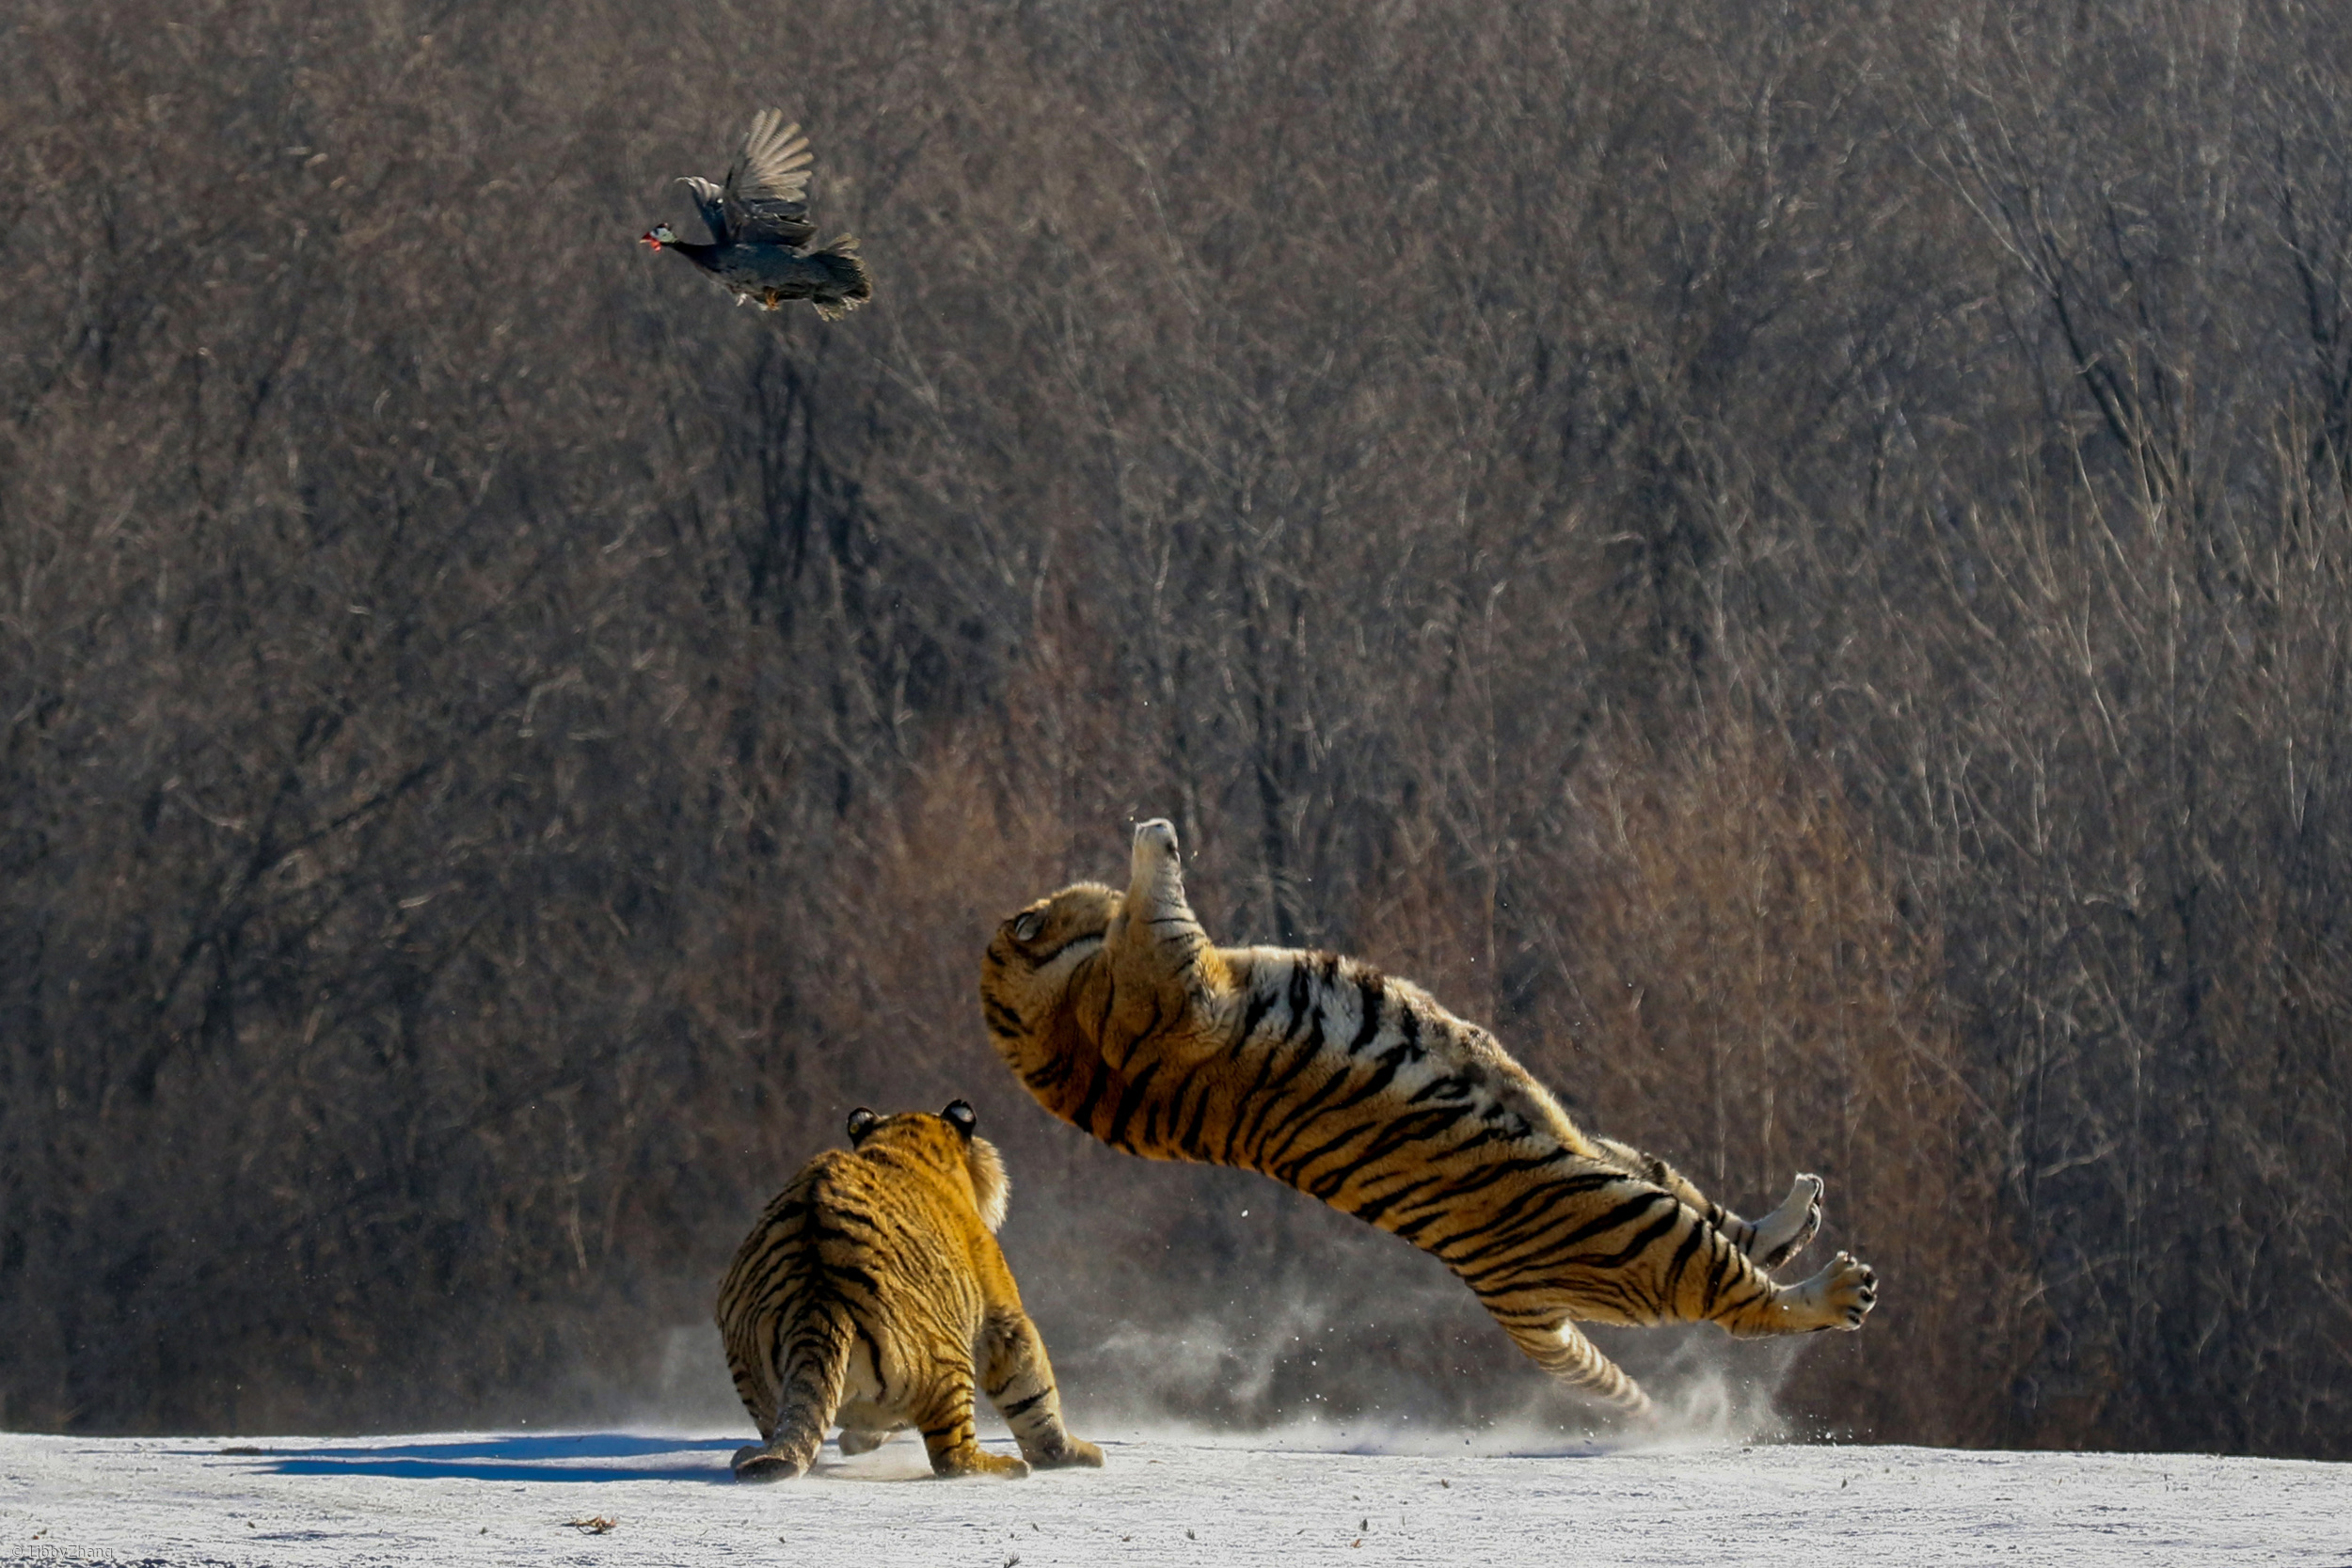tiger: (964, 822, 2000, 1428), (621, 1055, 1188, 1466)
